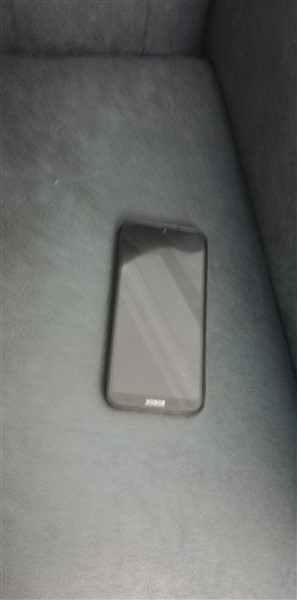telefon: (101, 212, 215, 419)
